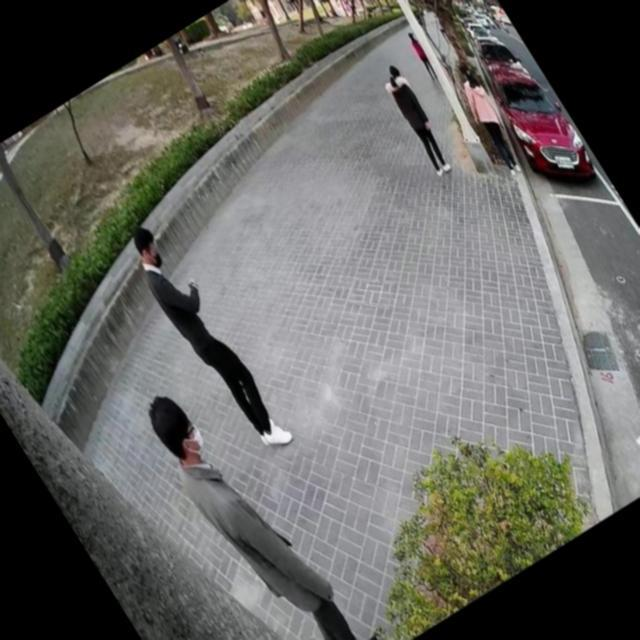person: (126, 354, 393, 640), (110, 206, 300, 468), (441, 56, 534, 181), (371, 57, 464, 181), (402, 27, 444, 86)
